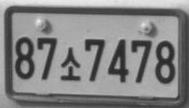4: (106, 39, 129, 83)
7: (130, 39, 152, 84), (84, 38, 106, 82), (36, 36, 57, 80)
8: (154, 39, 176, 85), (14, 35, 34, 80)
소: (59, 46, 81, 81)
